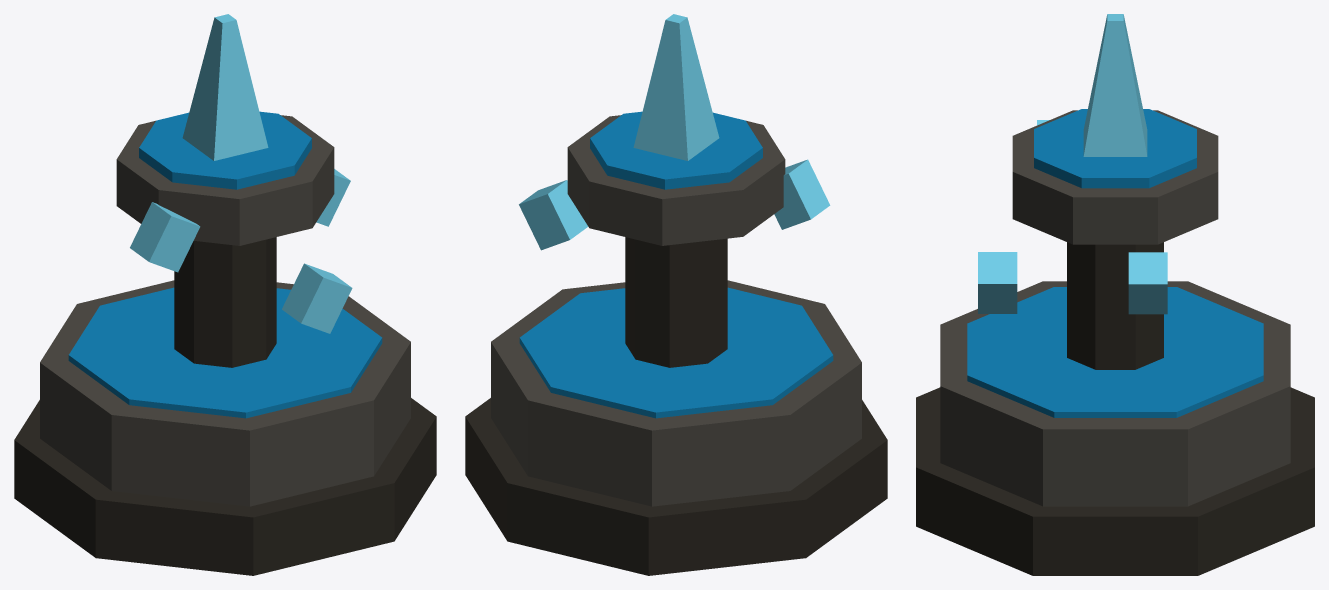
Rendered from FuenteMagica_low.fbx.
The picture shows the model from 3 angles, left to right: view 1: azimuth 30°, elevation 25°; view 2: azimuth 150°, elevation 25°; view 3: azimuth 270°, elevation 25°; orthographic projection.
Visible parts, largest first — view 1: FuenteMagica_low; view 2: FuenteMagica_low; view 3: FuenteMagica_low.
Boxes of the visible parts, x1,y1,x2,y2 form: FuenteMagica_low: (14, 14, 436, 575); FuenteMagica_low: (465, 14, 887, 575); FuenteMagica_low: (916, 14, 1314, 575).
Size of the model in its own units: 60.98 by 80 by 60.98.
